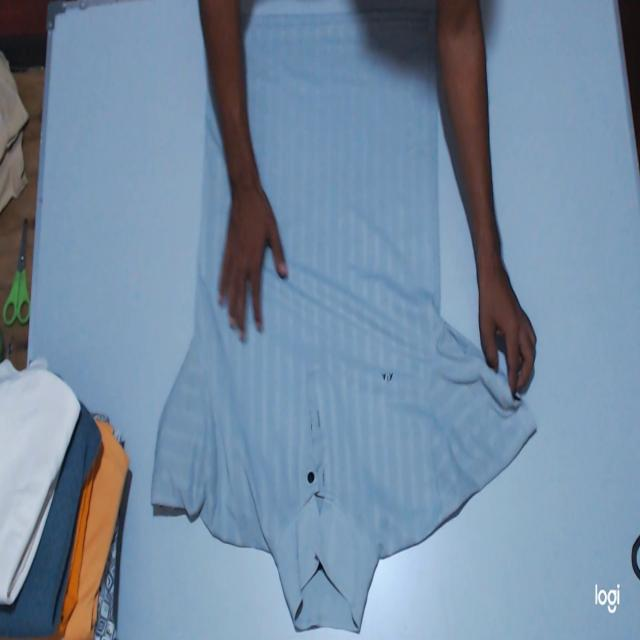new-garment: (152, 3, 535, 631)
